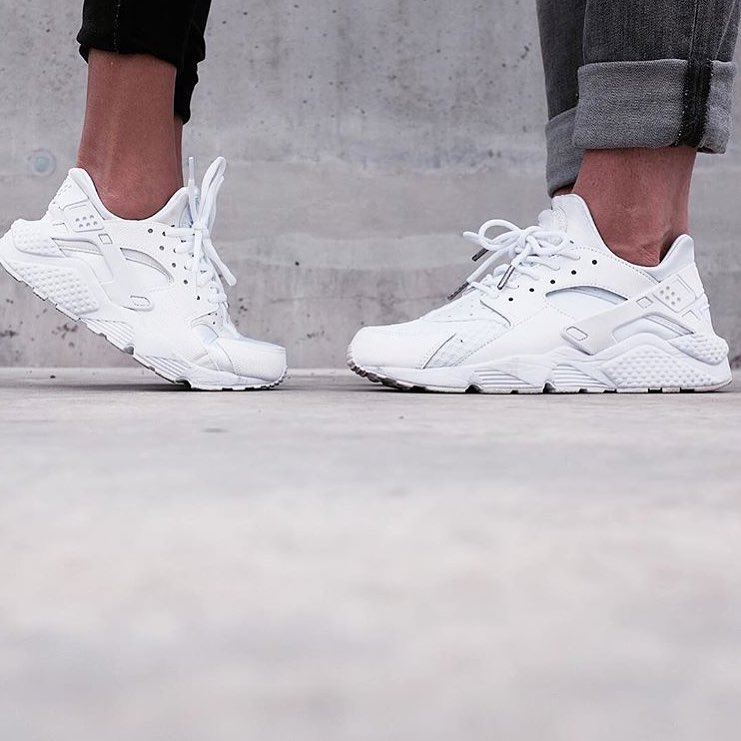sneaker: (330, 149, 741, 416), (1, 144, 306, 411)
